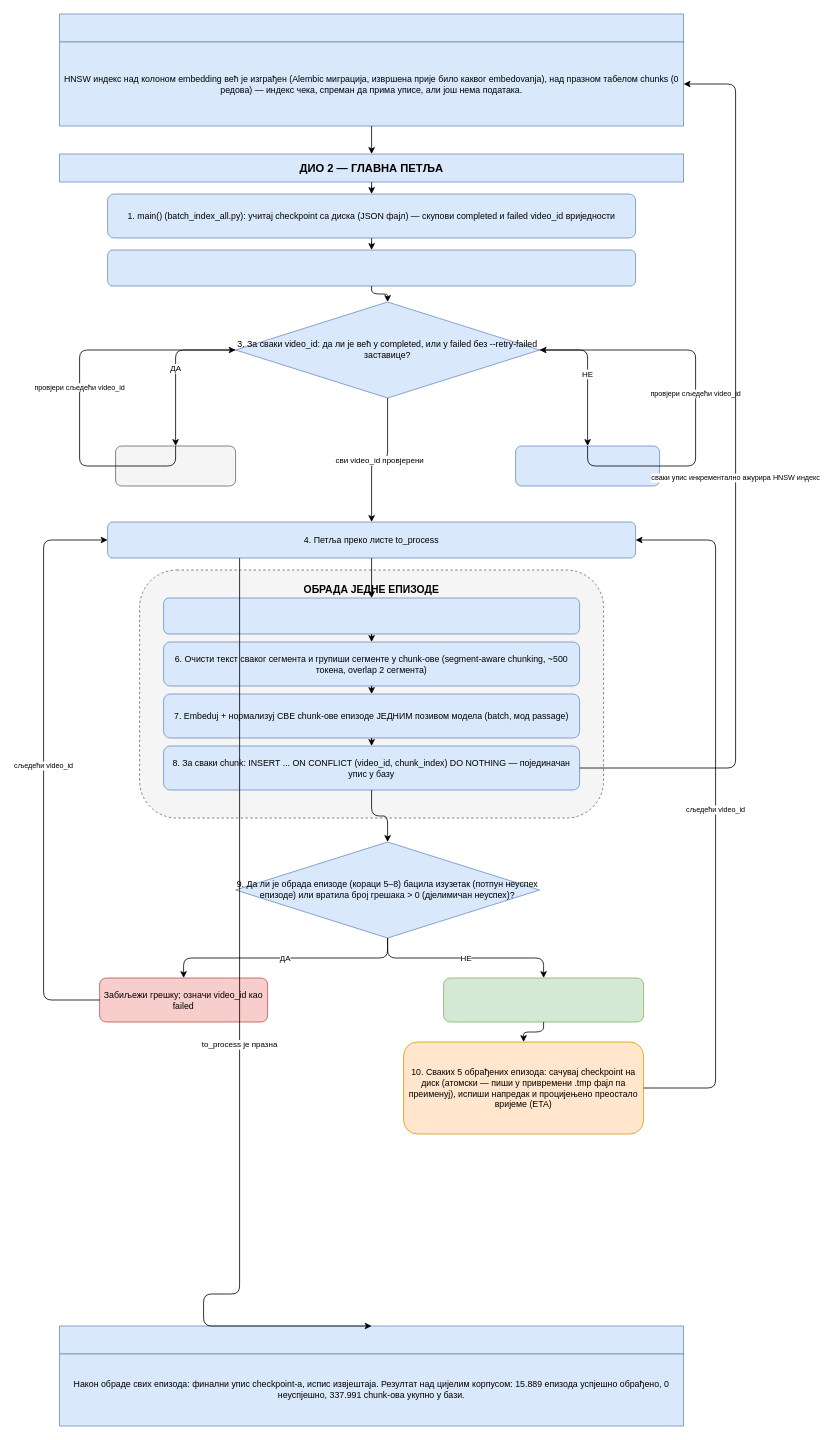
Image size: 834x1440. Some labels were removed from this diagram. Each missing label, with the centre of its shape:
2. Дохвати све video_id вриједности из базе: [371,267]
5. Дохвати транскрипцијске сегменте епизоде из базе: [371,615]
ДИО 1 — ПРЕДУСЛОВ: [371,27]
ДИО 3 — ФИНАЛНО СТАЊЕ: [371,1339]
Додај video_id у completed; уклони из failed ако је тамо: [543,999]
Додај у листу to_process: [587,465]
Прескочи: [175,465]
